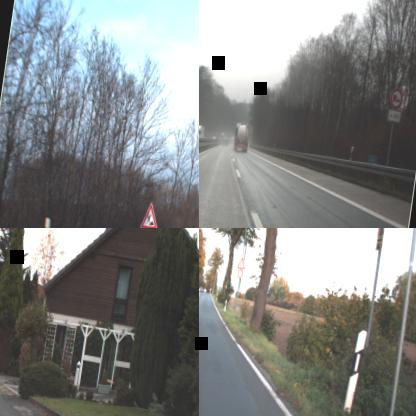CONSTRUCTION: (139, 200, 160, 228)
SCHOOL CROSSING: (236, 257, 246, 268)
no overtaking: (388, 86, 404, 110)
speed limit 50: (236, 268, 243, 278)
